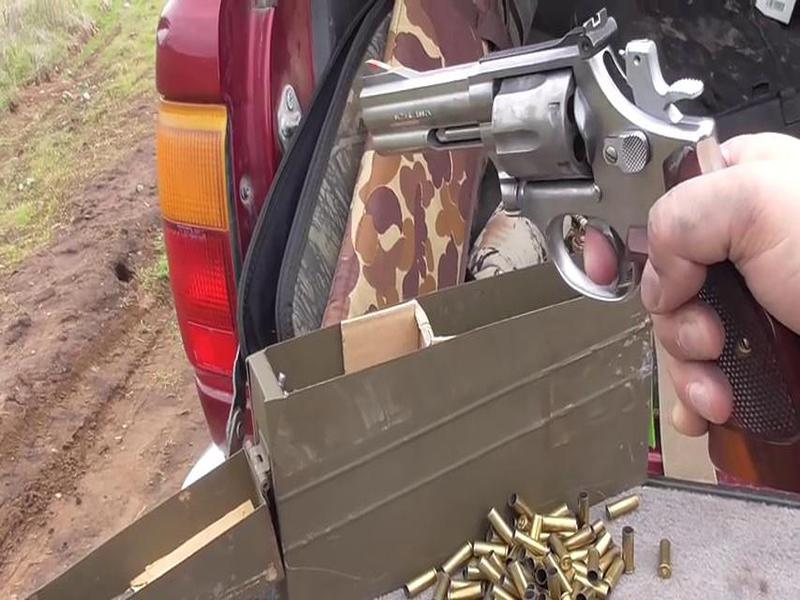Revolver: (337, 29, 800, 346)
